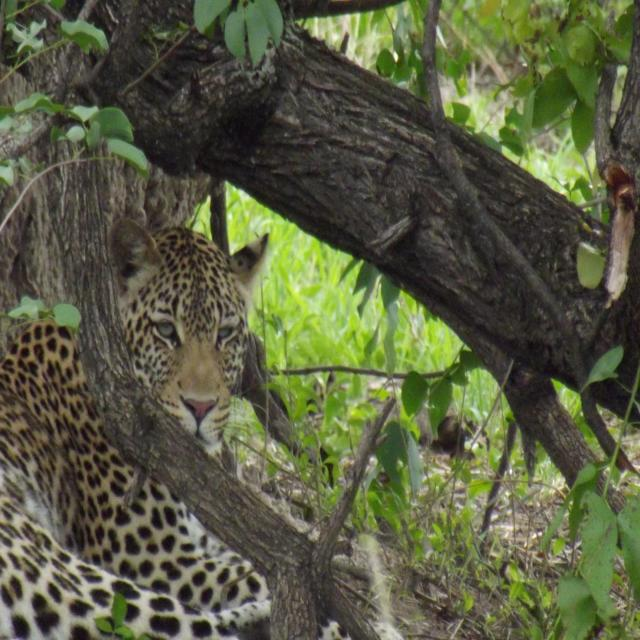Leopard: (5, 208, 276, 640)
